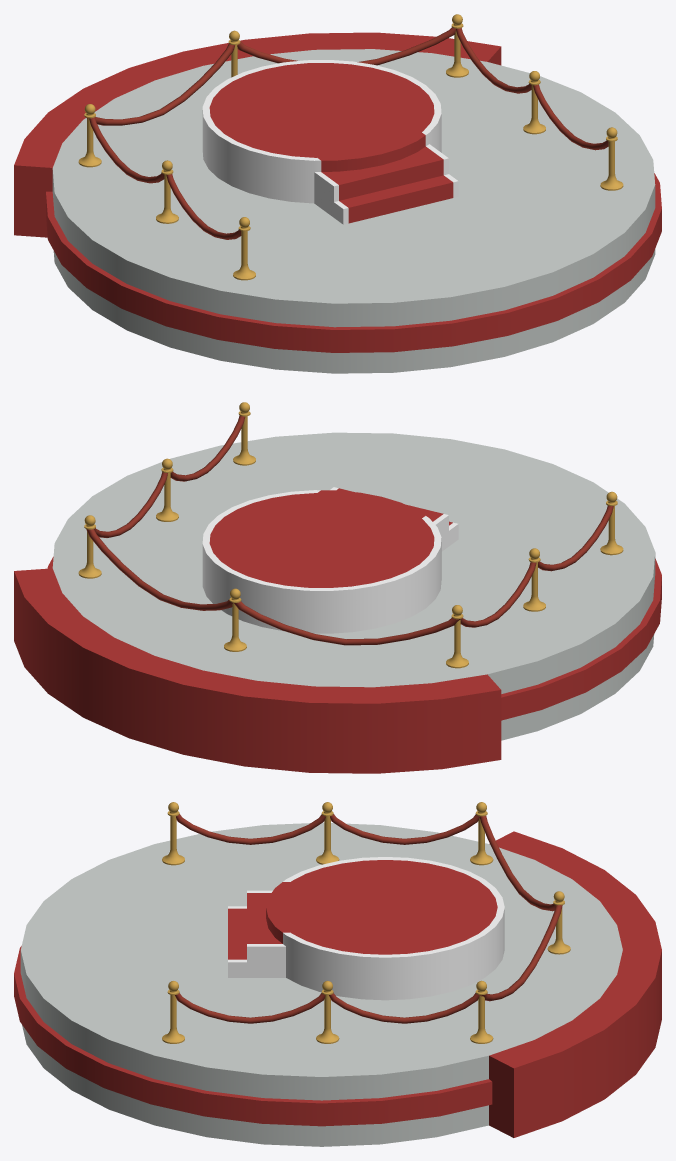
Rendered from Podyum_v2.fbx.
The picture shows the model from 3 angles, top to bottom: view 1: azimuth 30°, elevation 25°; view 2: azimuth 150°, elevation 25°; view 3: azimuth 270°, elevation 25°; orthographic projection.
Parts seen in each view (by area): view 1: End_platform, platform_small, Ropes; view 2: End_platform, platform_small, Ropes; view 3: End_platform, platform_small, Ropes.
Boxes of the visible parts, x1,y1,x2,y2 form: End_platform: [14, 32, 661, 373]; platform_small: [202, 60, 458, 224]; Ropes: [78, 14, 623, 280]; End_platform: [14, 432, 661, 773]; platform_small: [202, 487, 458, 633]; Ropes: [78, 402, 623, 668]; End_platform: [14, 822, 661, 1146]; platform_small: [228, 857, 504, 1000]; Ropes: [162, 802, 570, 1043].
Bounding box in the file's own units: 15.99 × 3.66 × 16.83.
